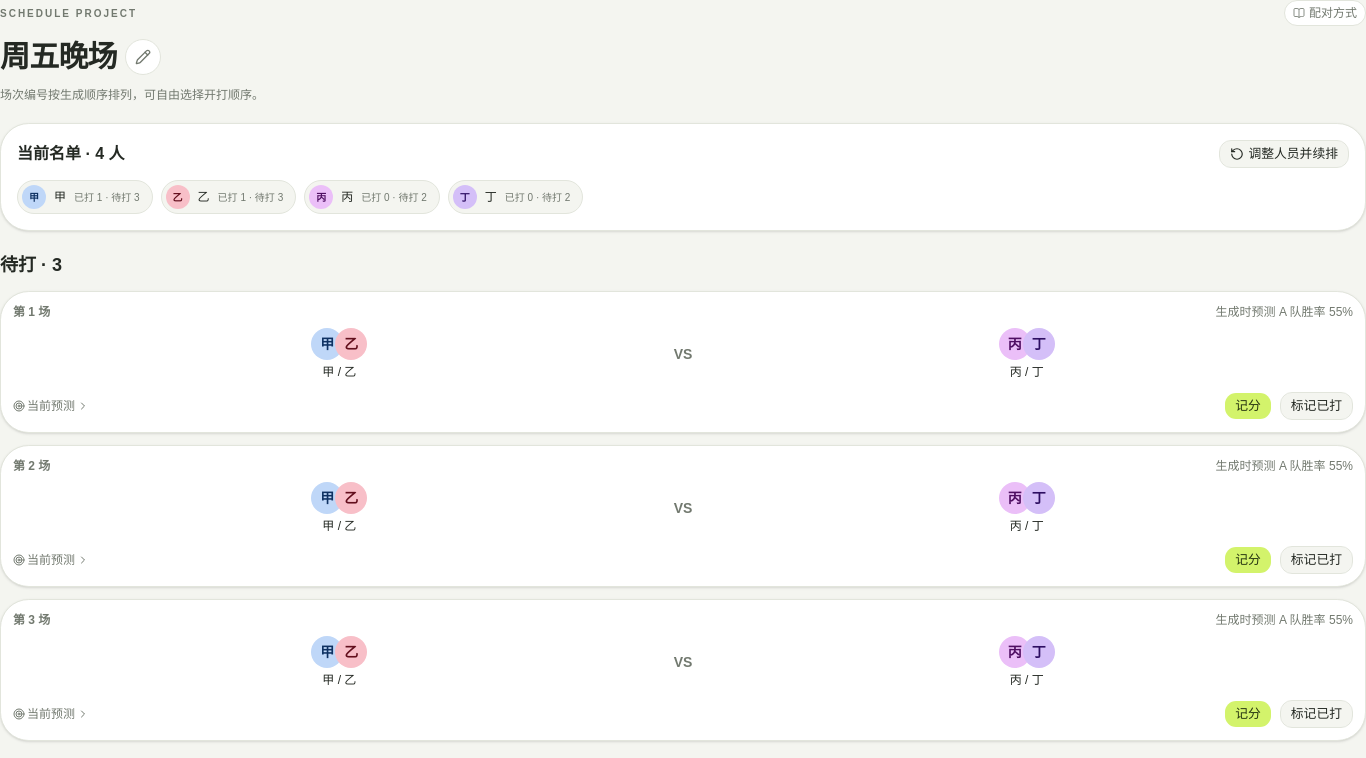
Test: ProjectDetailClient（/schedule/[projectId] 详情） › 改名 409 时先刷新显示最新名称再提示
Click the button named "改名" at point(143, 56), box left=125, top=38, right=161, bottom=74
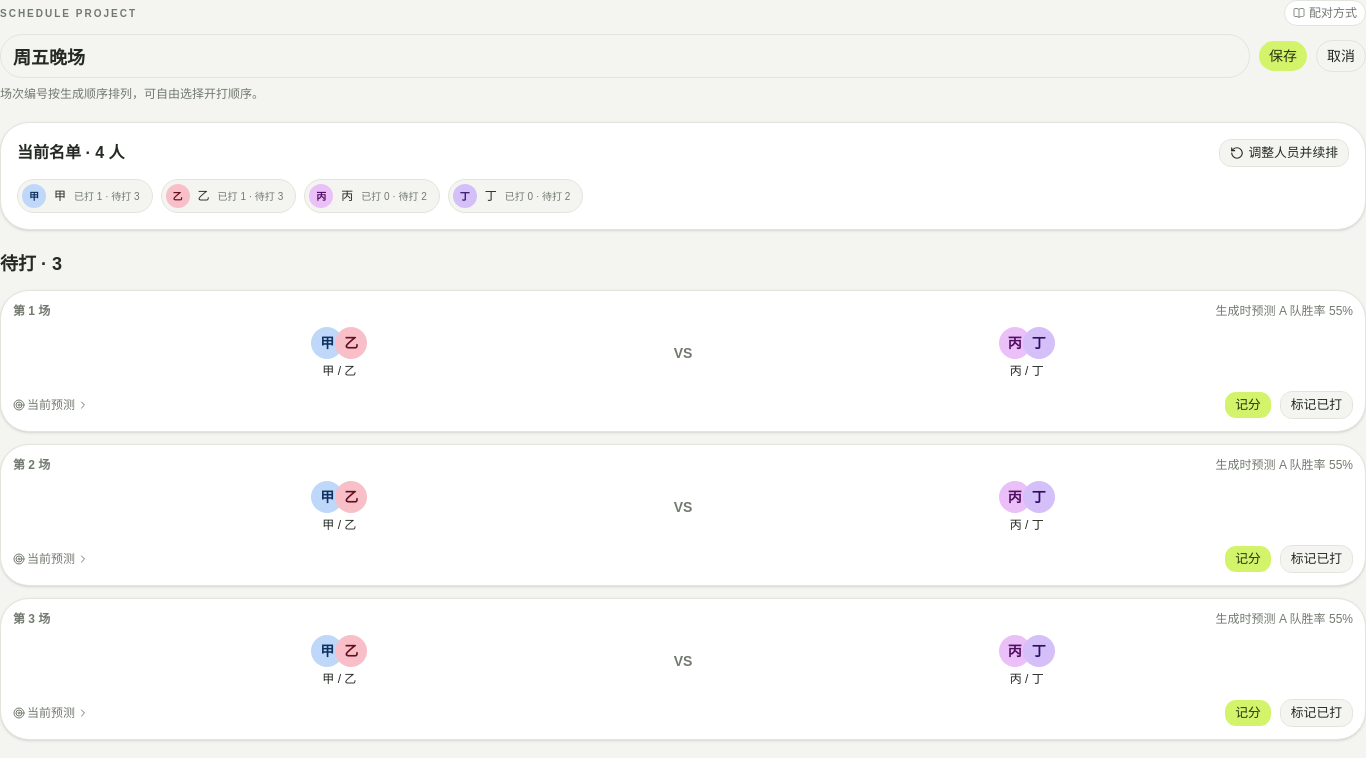
Replace the text in the field named "项目名称" with "我想改的名" at point(625, 56), box left=0, top=34, right=1250, bottom=78
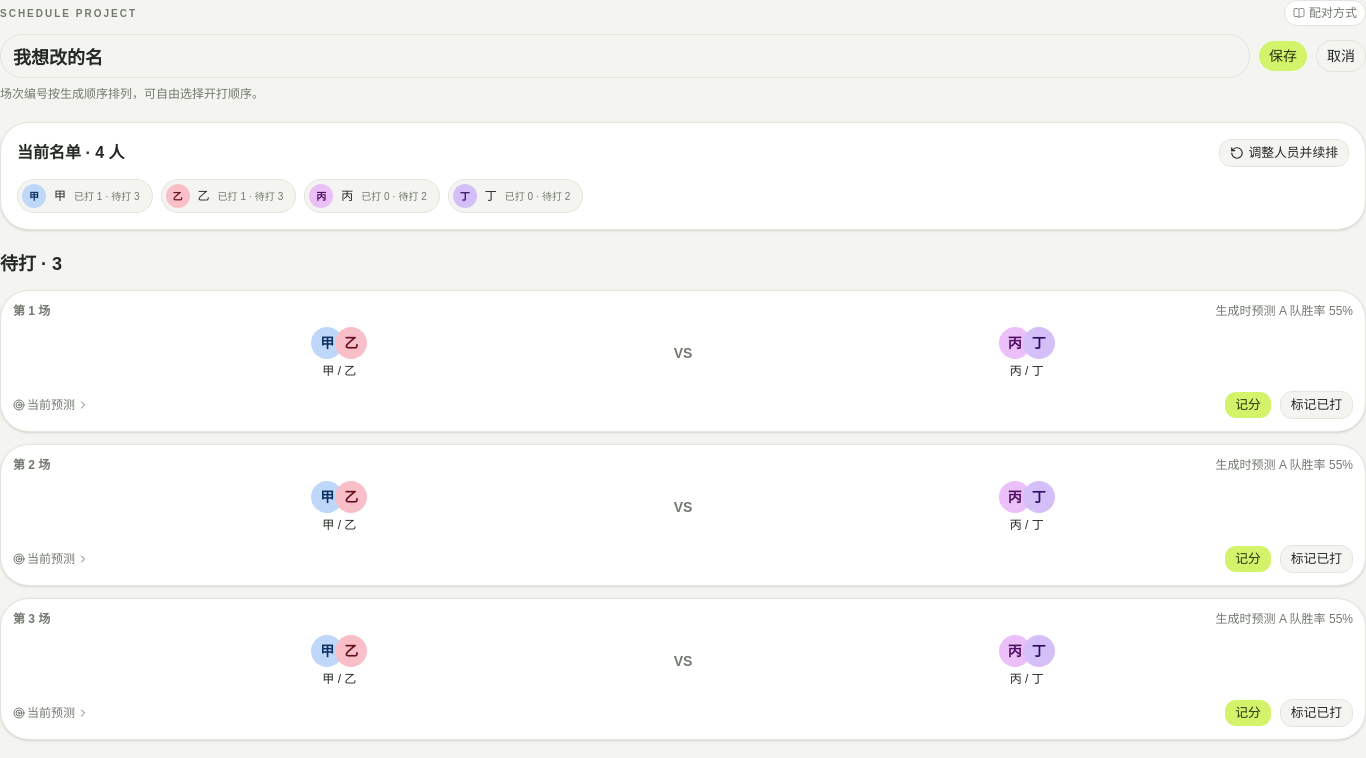
Click the button "保存" at point(1283, 56), box left=1258, top=40, right=1308, bottom=72
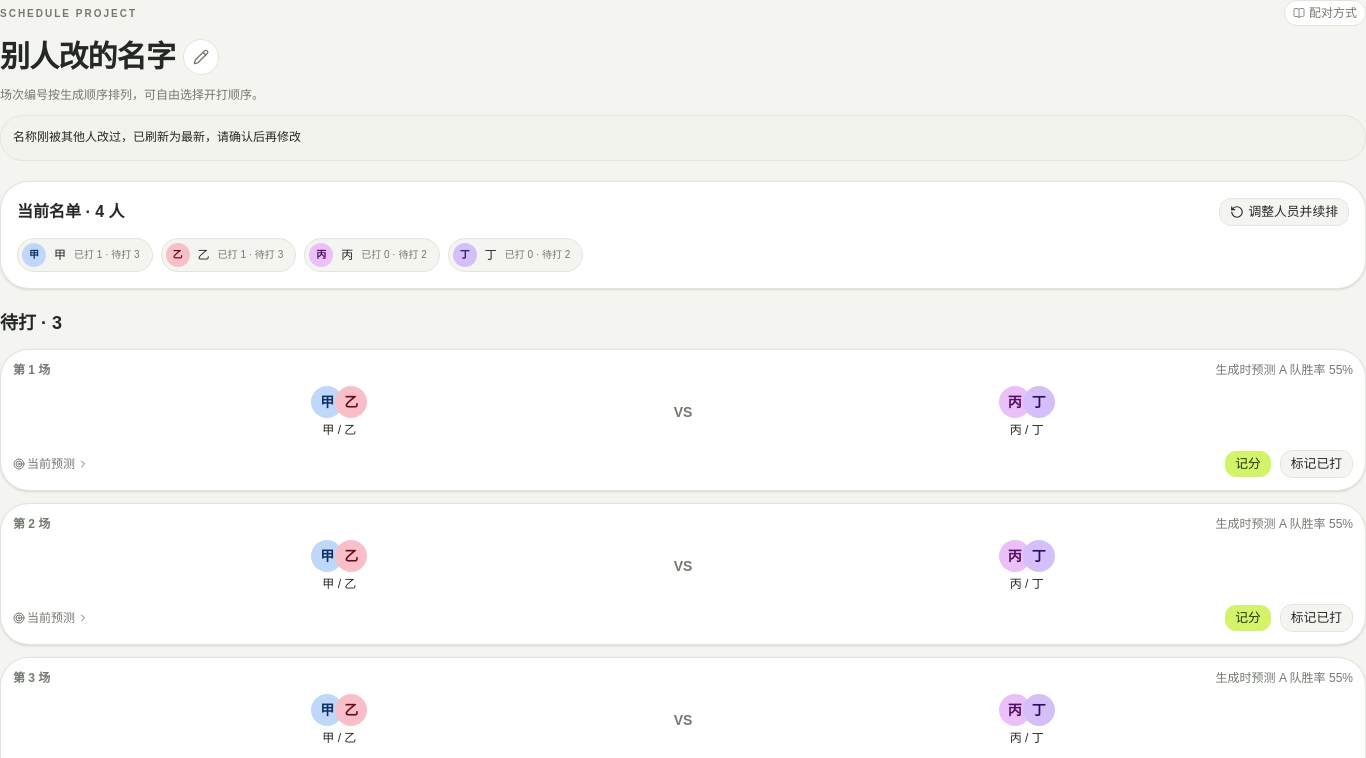
Result: the heading "别人改的名字" is shown at left=0, top=34, right=175, bottom=79
Result: the text "名称刚被其他人改过，已刷新为最新，请确认后再修改" is shown at left=0, top=115, right=1365, bottom=160
